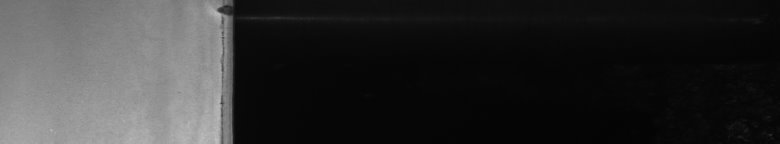hb: (208, 4, 220, 20)
